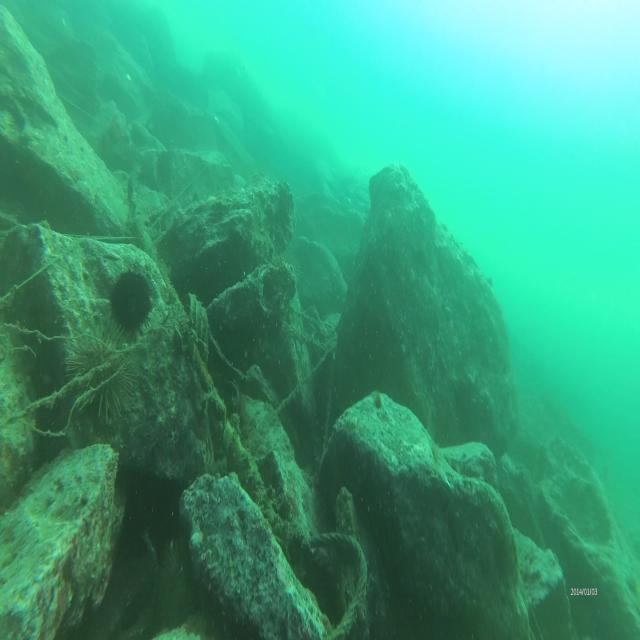echinus: (66, 316, 138, 426), (102, 262, 154, 338)
